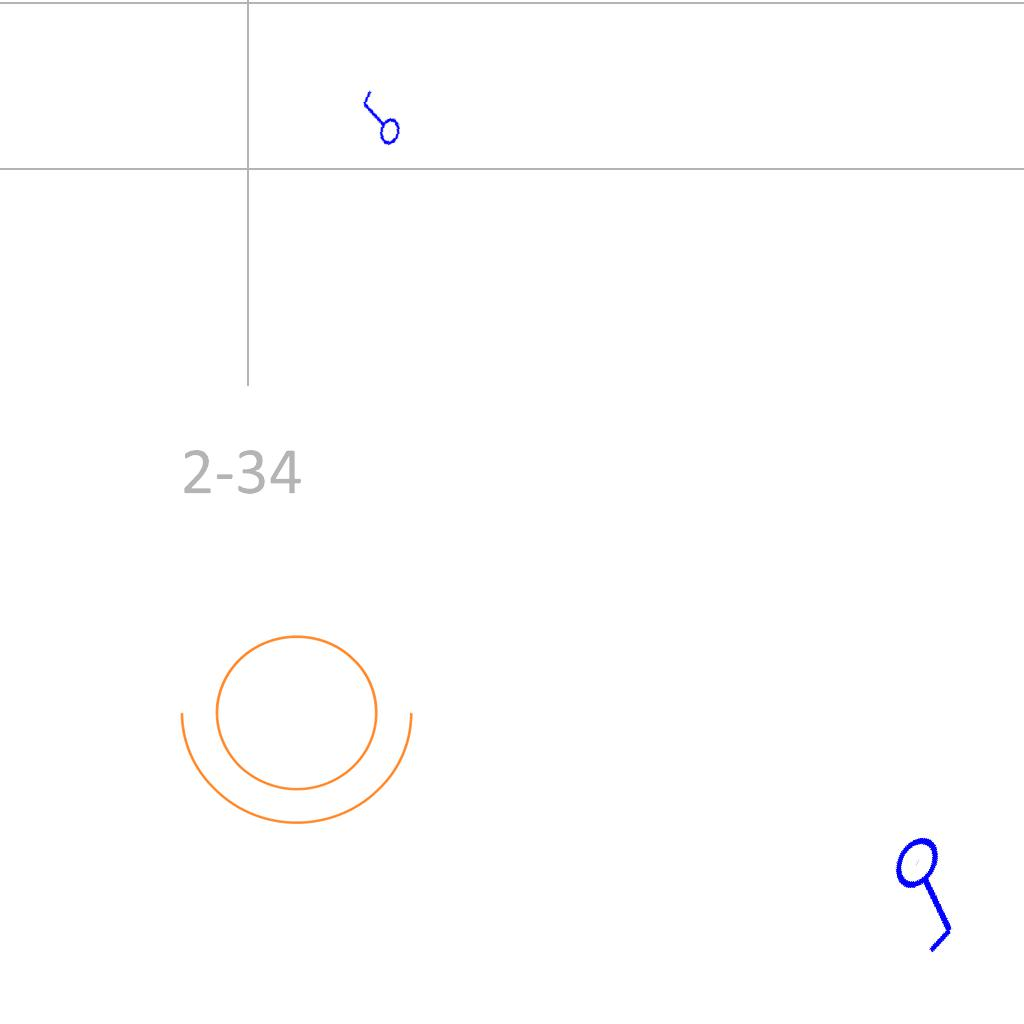Ausschalter: (861, 818, 1001, 964), (349, 87, 409, 153)
Scheinwerfer_fuer_Alarmbeleuchtung: (171, 610, 435, 835)
